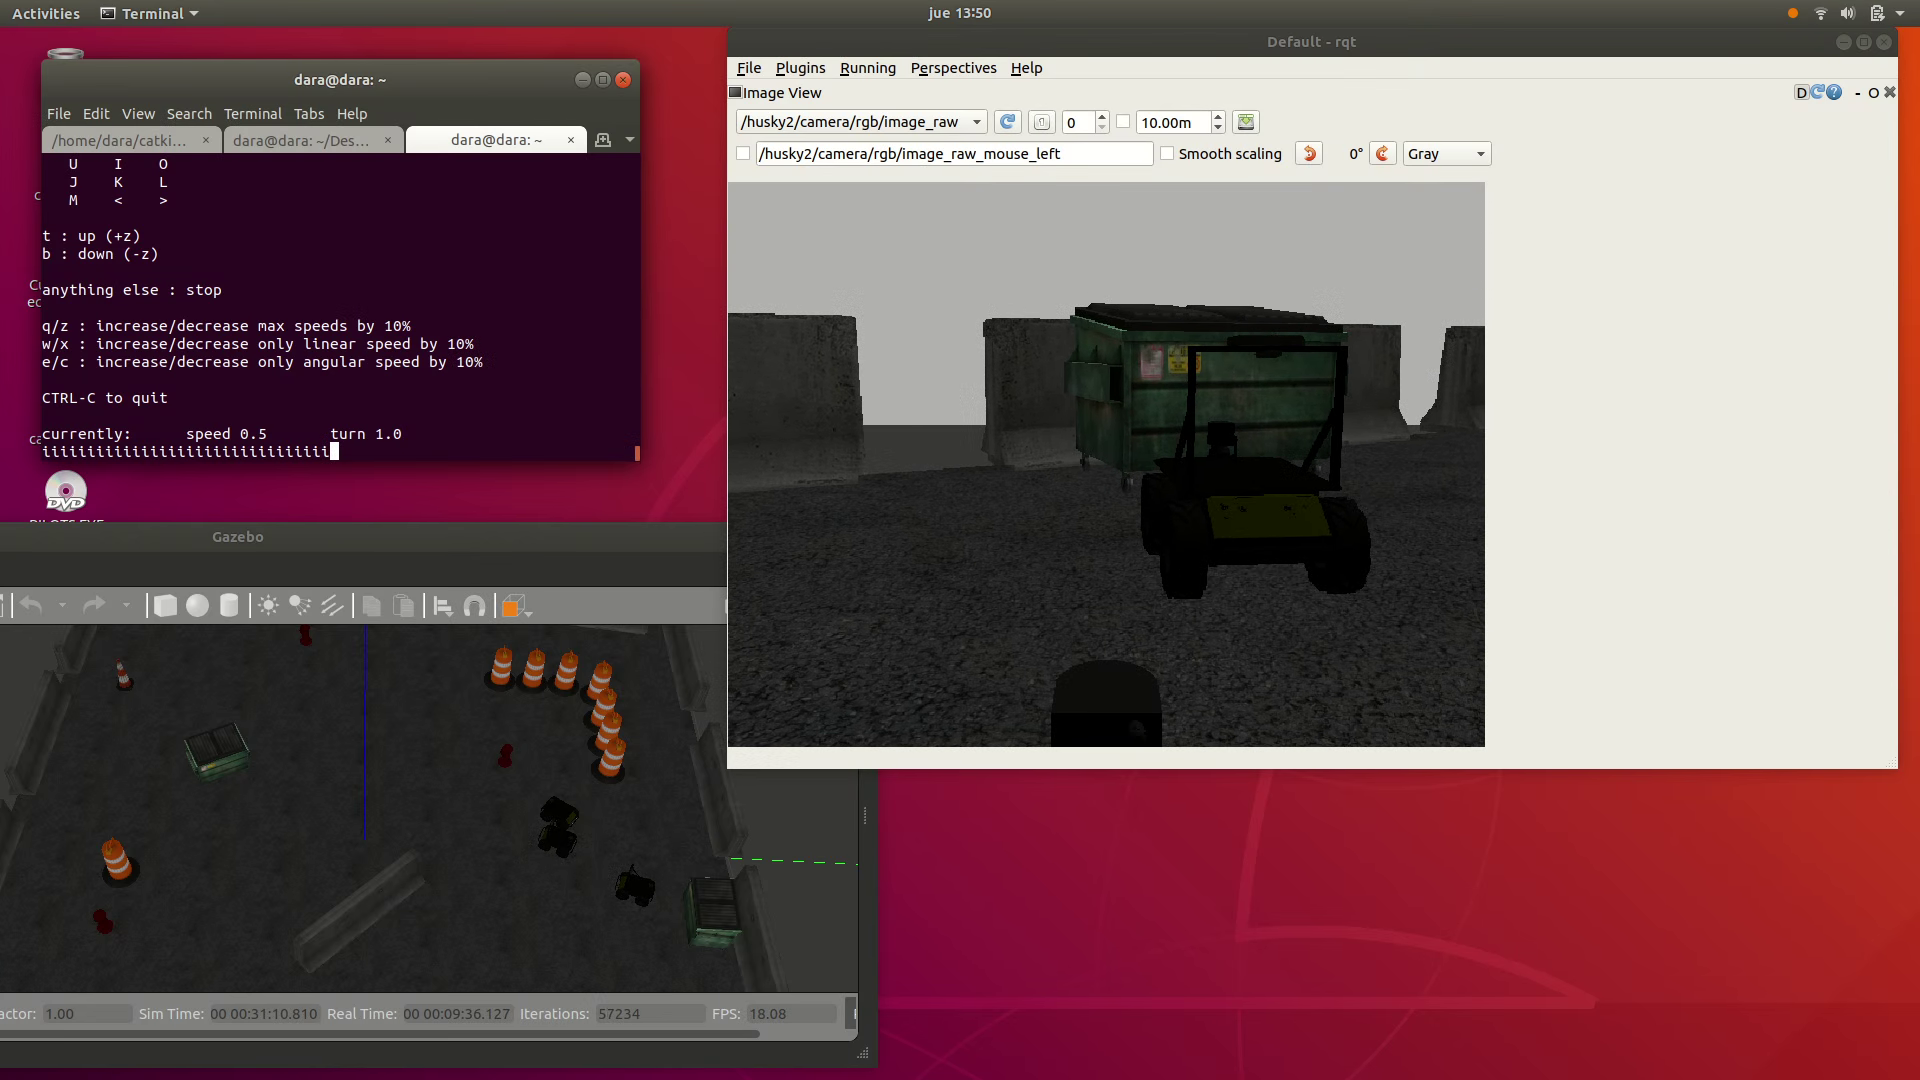husky: (1140, 456, 1373, 600), (614, 872, 655, 908), (540, 796, 581, 832), (536, 824, 578, 859)
